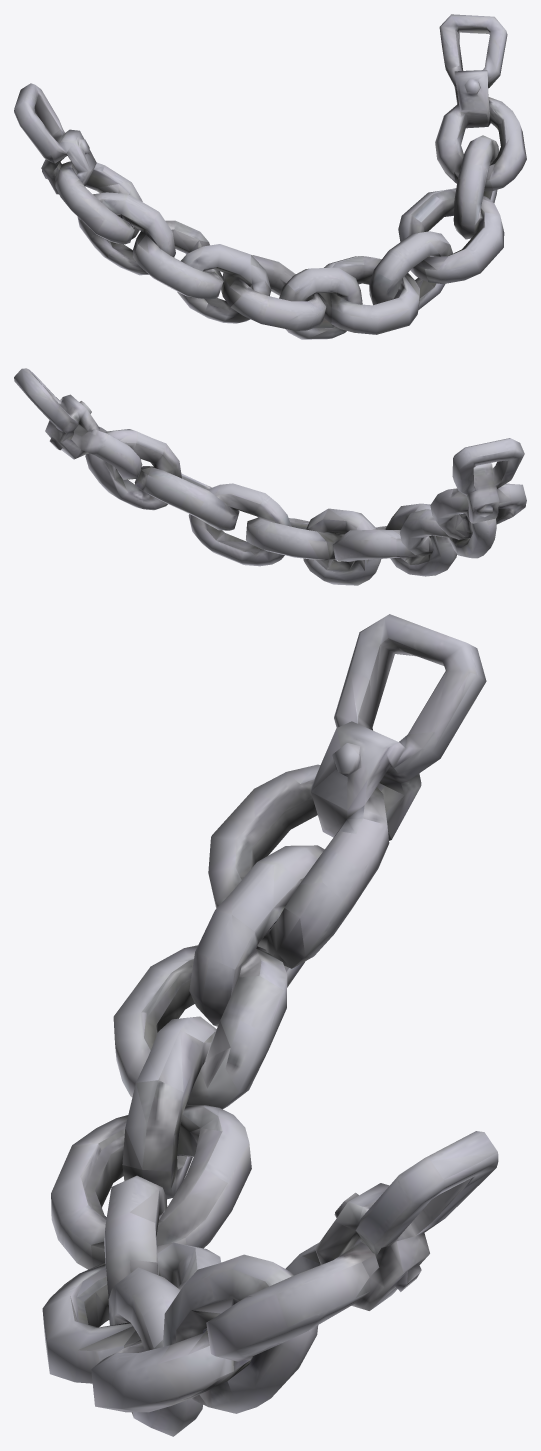
The model's file is aki_chain.glb.
3 views of the same model, one above another, from view 1: azimuth 30°, elevation 25°; view 2: azimuth 150°, elevation 25°; view 3: azimuth 270°, elevation 25° (orthographic). The views are drawn at different scales.
Visible parts, largest first — view 1: node_0; view 2: node_0; view 3: node_0.
Part boxes in pixels (<box>): node_0: <box>14,14,526,339</box>; node_0: <box>14,368,526,585</box>; node_0: <box>42,614,498,1436</box>.
Size of the model in its own units: 1 by 0.4812 by 0.3982.
1 material, 1 textured.
